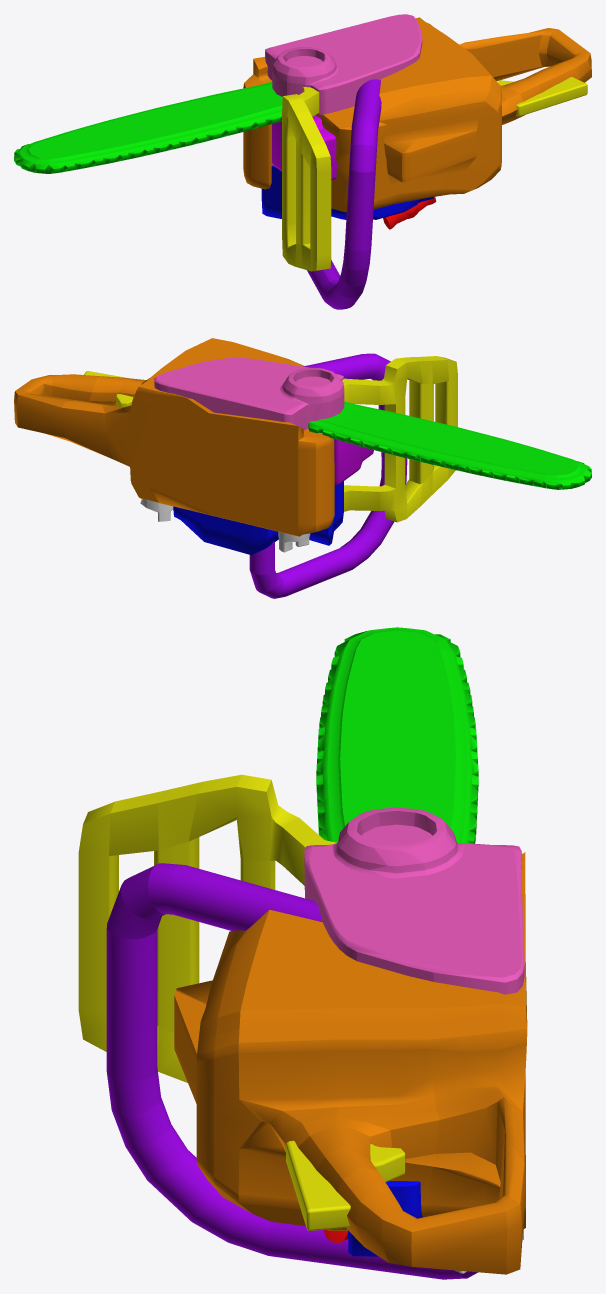
The model's file is chainsaw.fbx.
3 views of the same model, one above another, from view 1: azimuth 30°, elevation 25°; view 2: azimuth 150°, elevation 25°; view 3: azimuth 270°, elevation 25° (orthographic). The views are drawn at different scales.
Visible parts, largest first — view 1: polySurface257, polySurface256, polySurface255, polySurface251, polySurface254, polySurface247, polySurface253, polySurface252, polySurface249; view 2: polySurface257, polySurface256, polySurface251, polySurface255, polySurface254, polySurface247, polySurface252, polySurface250, polySurface248; view 3: polySurface257, polySurface255, polySurface254, polySurface256, polySurface251, polySurface253, polySurface247.
Boxes of the visible parts, left/top/right/bottom form: polySurface257: left=243, top=17, right=591, bottom=212; polySurface256: left=14, top=82, right=282, bottom=173; polySurface255: left=265, top=14, right=422, bottom=114; polySurface251: left=282, top=87, right=331, bottom=271; polySurface254: left=307, top=79, right=381, bottom=309; polySurface247: left=261, top=165, right=433, bottom=219; polySurface253: left=497, top=77, right=587, bottom=116; polySurface252: left=272, top=115, right=337, bottom=179; polySurface249: left=383, top=196, right=436, bottom=229; polySurface257: left=14, top=338, right=334, bottom=536; polySurface256: left=308, top=401, right=591, bottom=489; polySurface251: left=342, top=356, right=457, bottom=522; polySurface255: left=154, top=357, right=344, bottom=430; polySurface254: left=249, top=353, right=407, bottom=598; polySurface247: left=173, top=481, right=343, bottom=555; polySurface252: left=334, top=439, right=373, bottom=484; polySurface250: left=278, top=531, right=310, bottom=552; polySurface248: left=140, top=499, right=173, bottom=521; polySurface257: left=174, top=852, right=527, bottom=1274; polySurface255: left=304, top=807, right=524, bottom=994; polySurface254: left=106, top=863, right=477, bottom=1279; polySurface256: left=316, top=627, right=478, bottom=843; polySurface251: left=78, top=774, right=336, bottom=1082; polySurface253: left=286, top=1140, right=405, bottom=1230; polySurface247: left=348, top=1181, right=422, bottom=1256.
Bounding box in the file's own units: 14.99 × 5.57 × 5.27.
